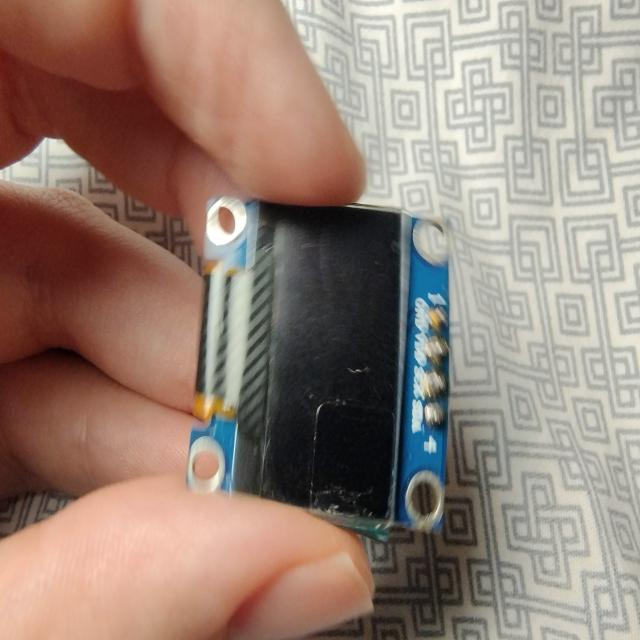oled: (201, 189, 462, 542)
